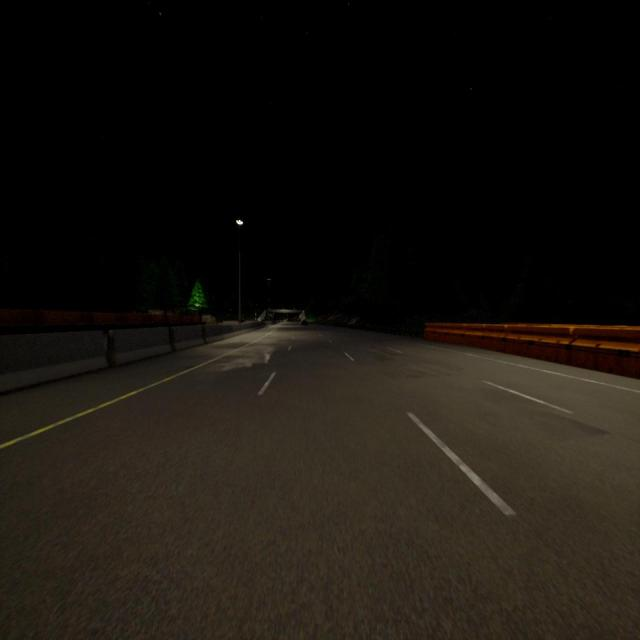Vehicle: (301, 318, 308, 328)
